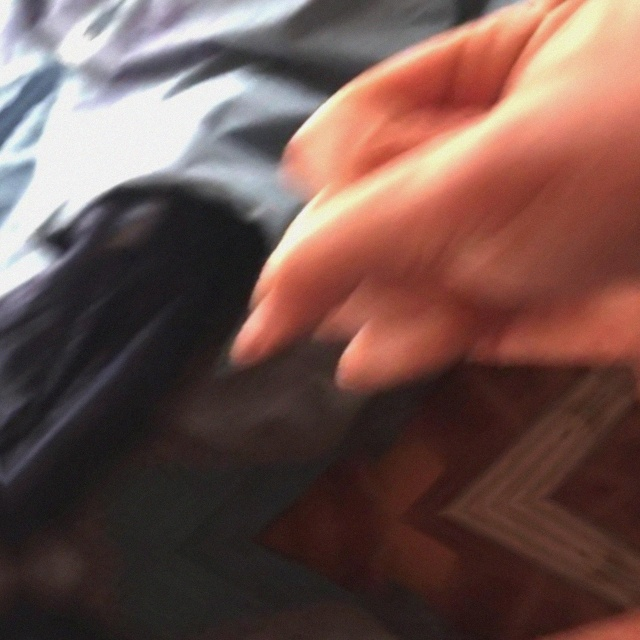Rock: (180, 476, 640, 640)
